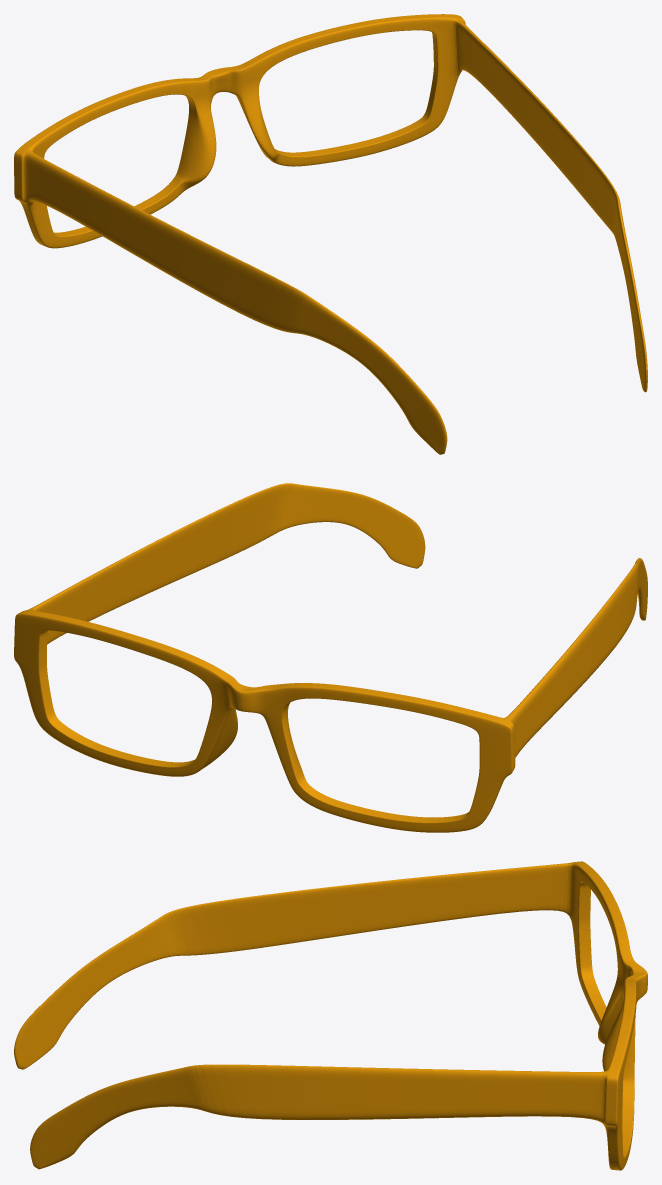
3 views of the same model, one above another, from view 1: azimuth 30°, elevation 25°; view 2: azimuth 150°, elevation 25°; view 3: azimuth 270°, elevation 25° (orthographic). The views are drawn at different scales.
Visible parts, largest first — view 1: Glasses:glassesframeHyperNURBSCube4Cube; view 2: Glasses:glassesframeHyperNURBSCube4Cube; view 3: Glasses:glassesframeHyperNURBSCube4Cube.
Boxes of the visible parts, left/top/right/bottom form: Glasses:glassesframeHyperNURBSCube4Cube: left=14, top=14, right=647, bottom=454; Glasses:glassesframeHyperNURBSCube4Cube: left=14, top=483, right=647, bottom=832; Glasses:glassesframeHyperNURBSCube4Cube: left=14, top=861, right=647, bottom=1170.
Bounding box in the file's own units: 17.46 × 5.58 × 20.37.
